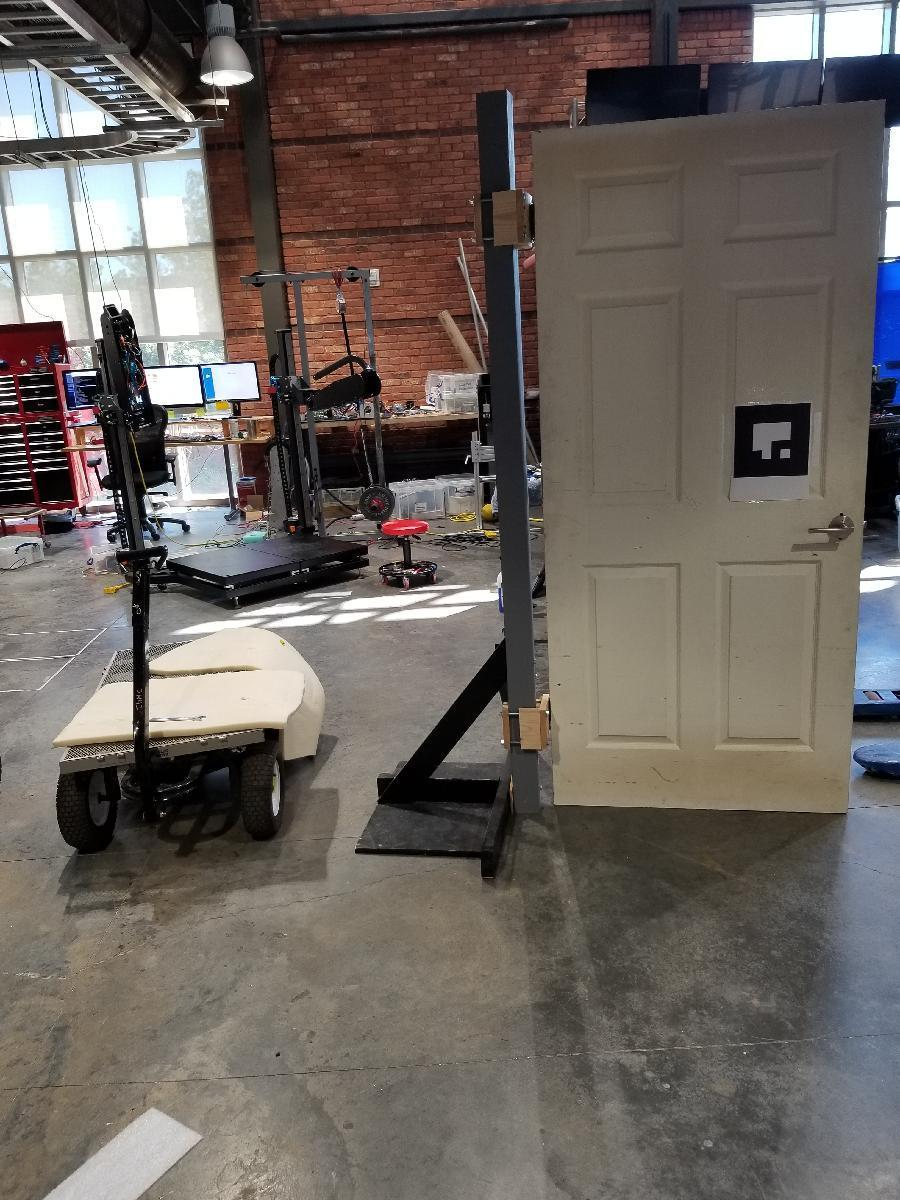door: (541, 108, 857, 811)
handle: (802, 512, 856, 540)
